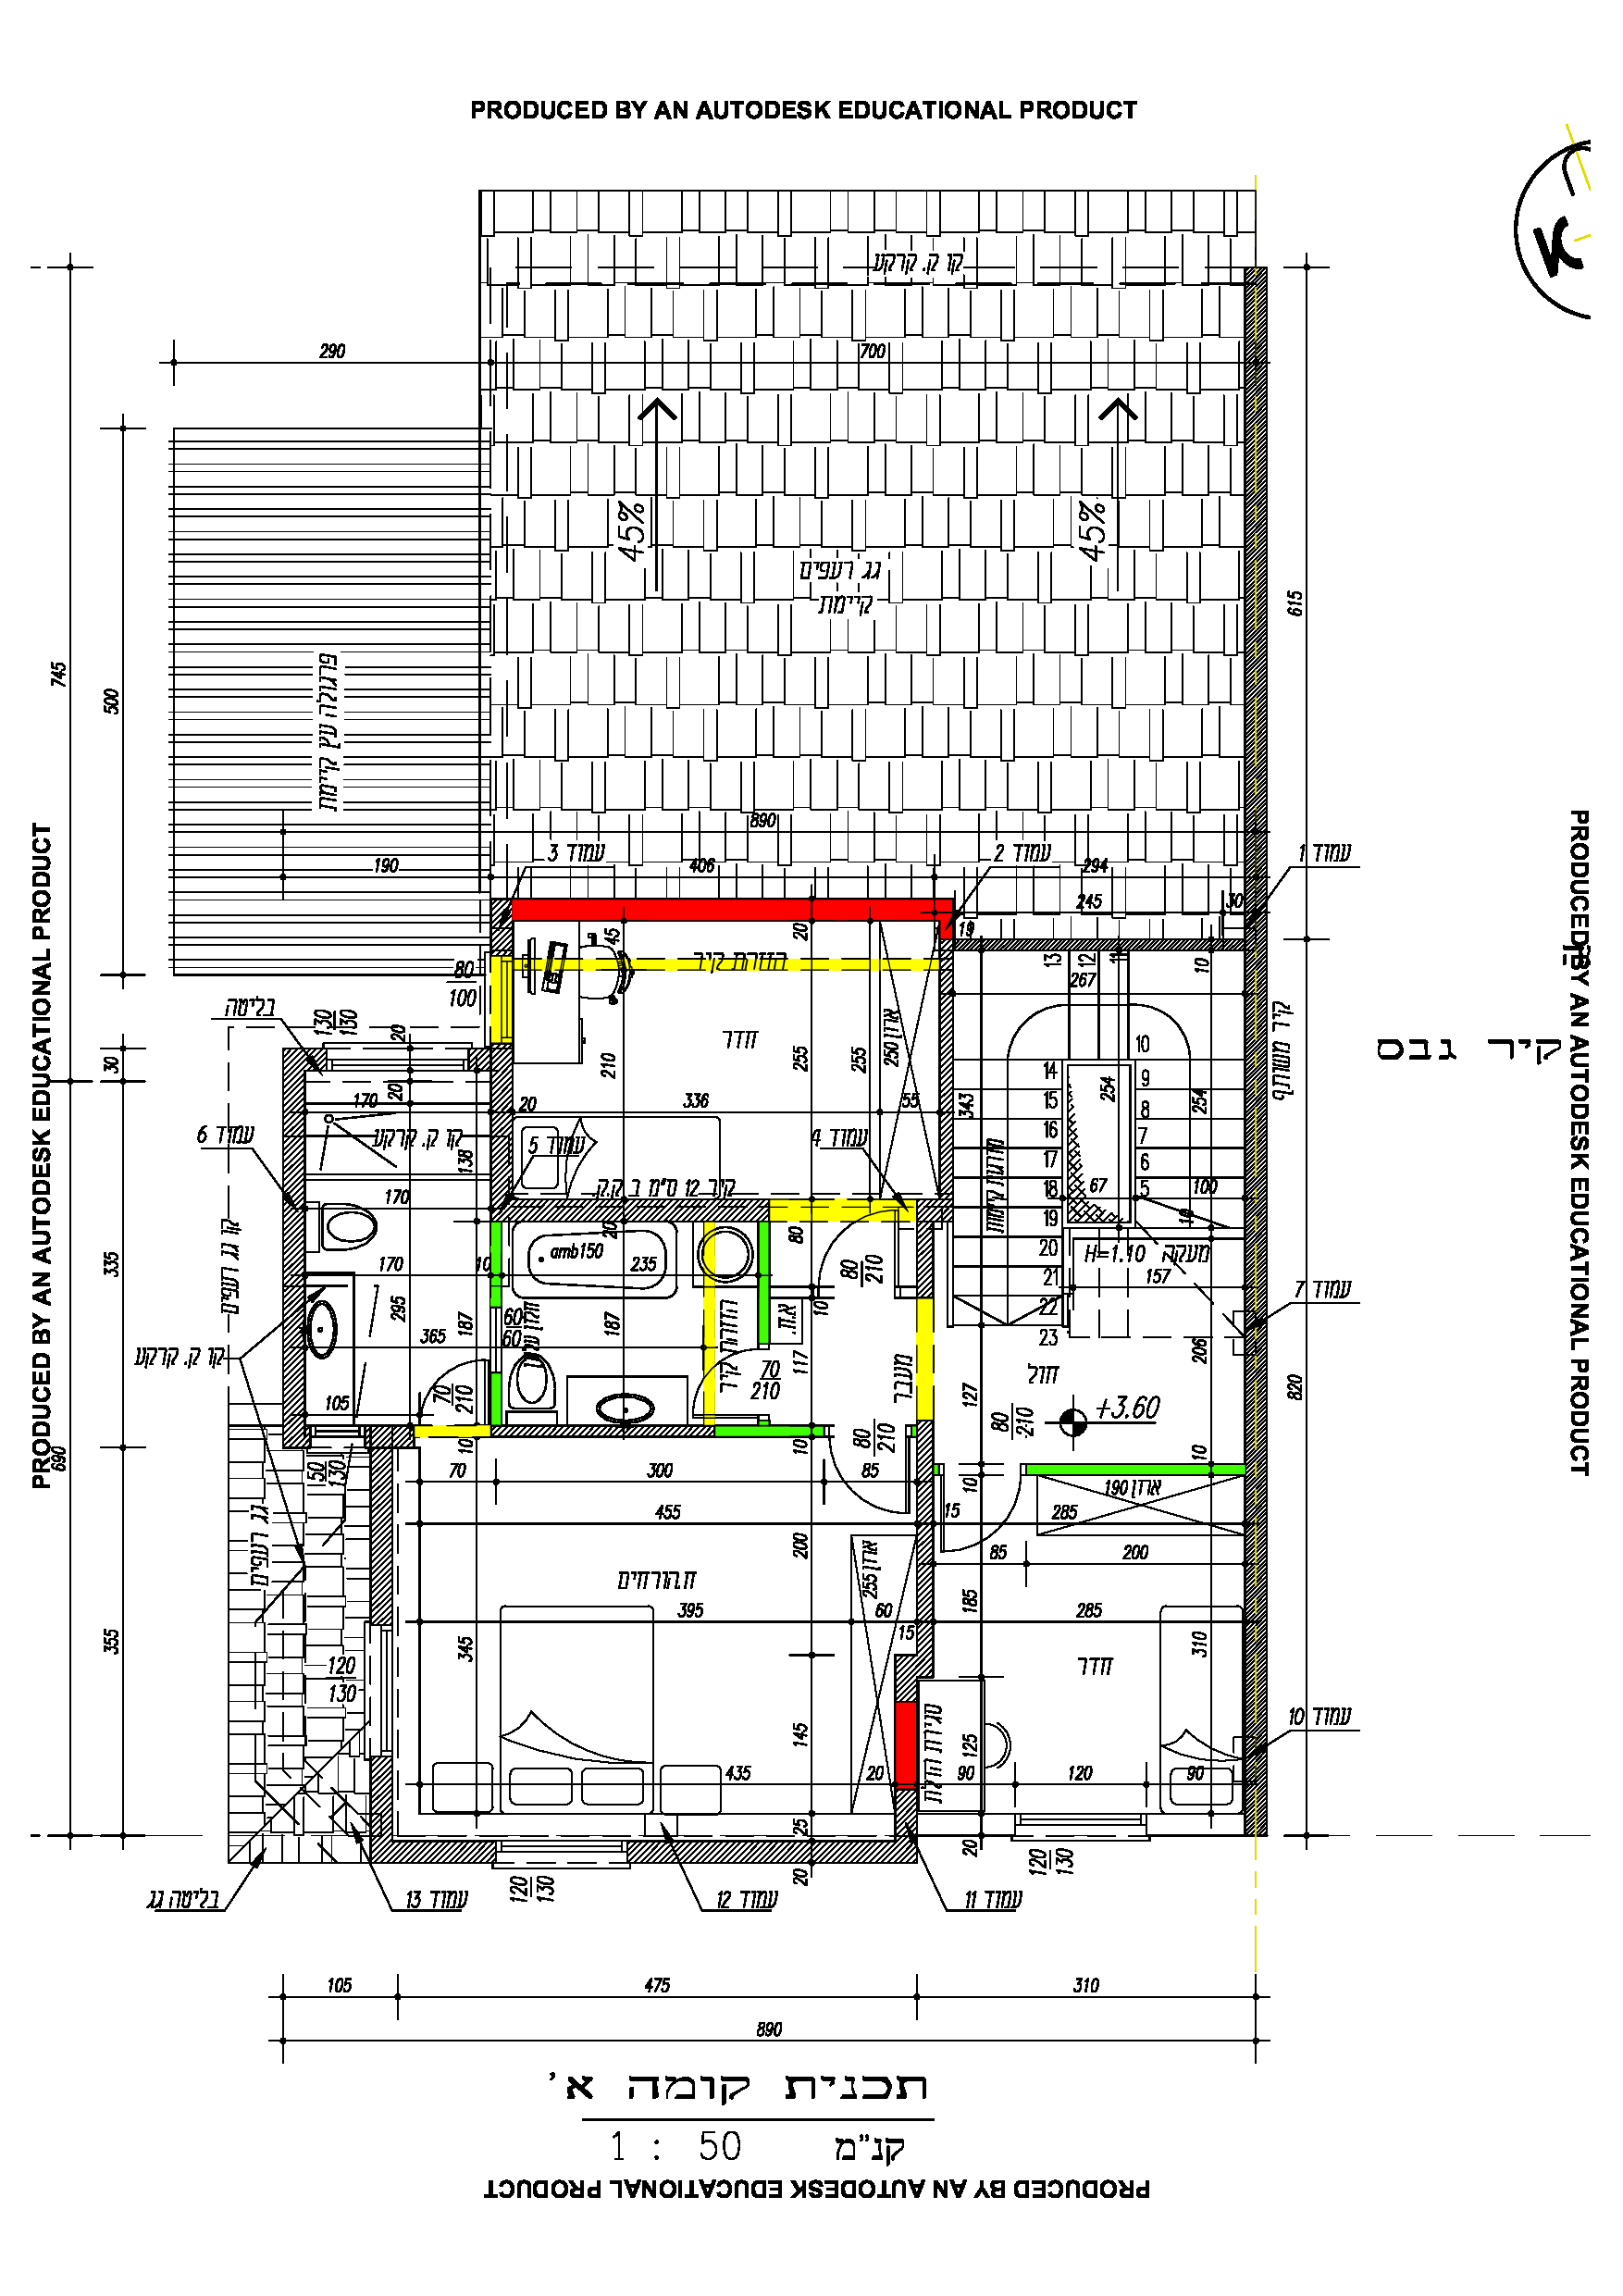wall: (285, 1049, 302, 1449), (629, 1841, 917, 1864), (917, 1419, 934, 1678), (372, 1448, 393, 1625)
